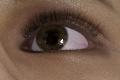eye: (38, 27, 65, 50)
